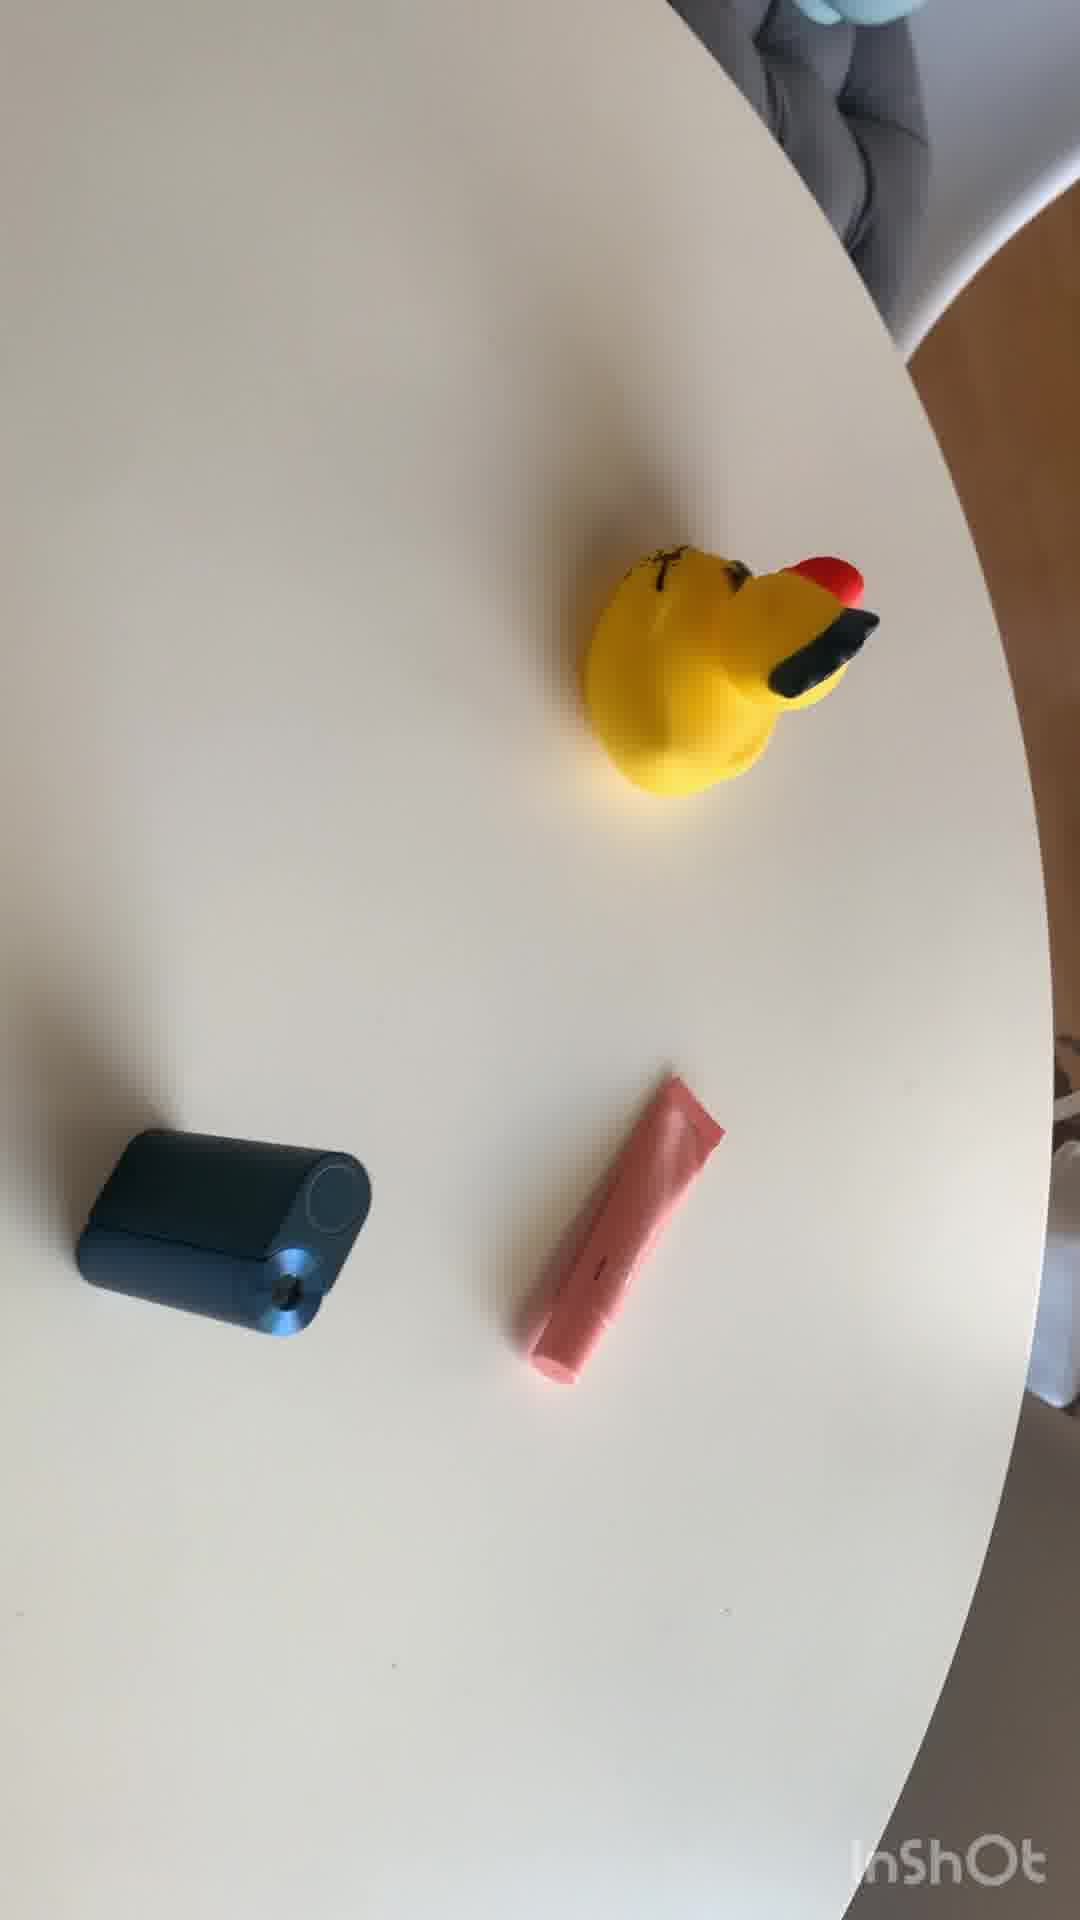duck: (582, 535, 877, 795)
glo: (74, 1118, 385, 1357)
lip balm: (526, 1077, 728, 1385)
